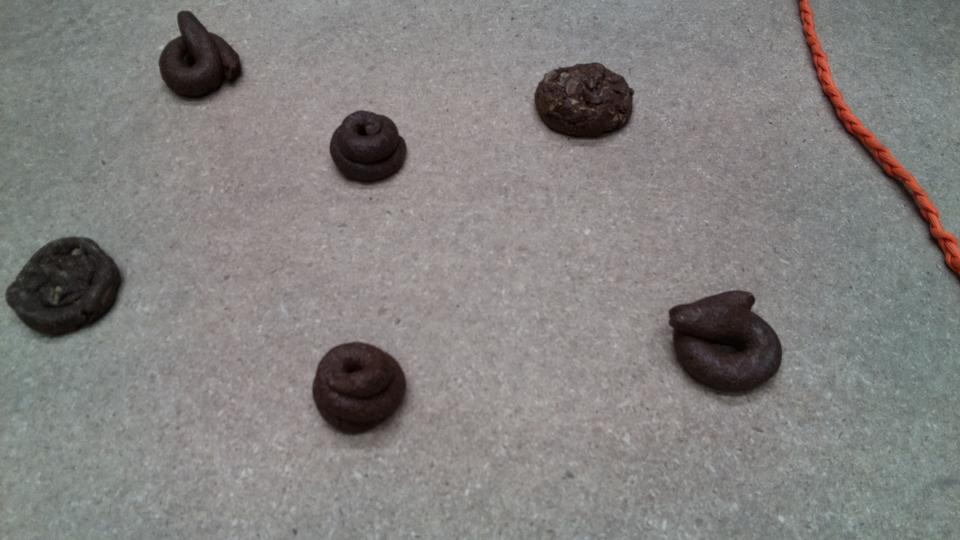poop: (1, 232, 128, 345), (664, 287, 788, 402), (310, 340, 410, 439), (154, 7, 247, 103), (531, 60, 638, 143), (326, 107, 410, 188)
rope: (799, 1, 959, 268)
